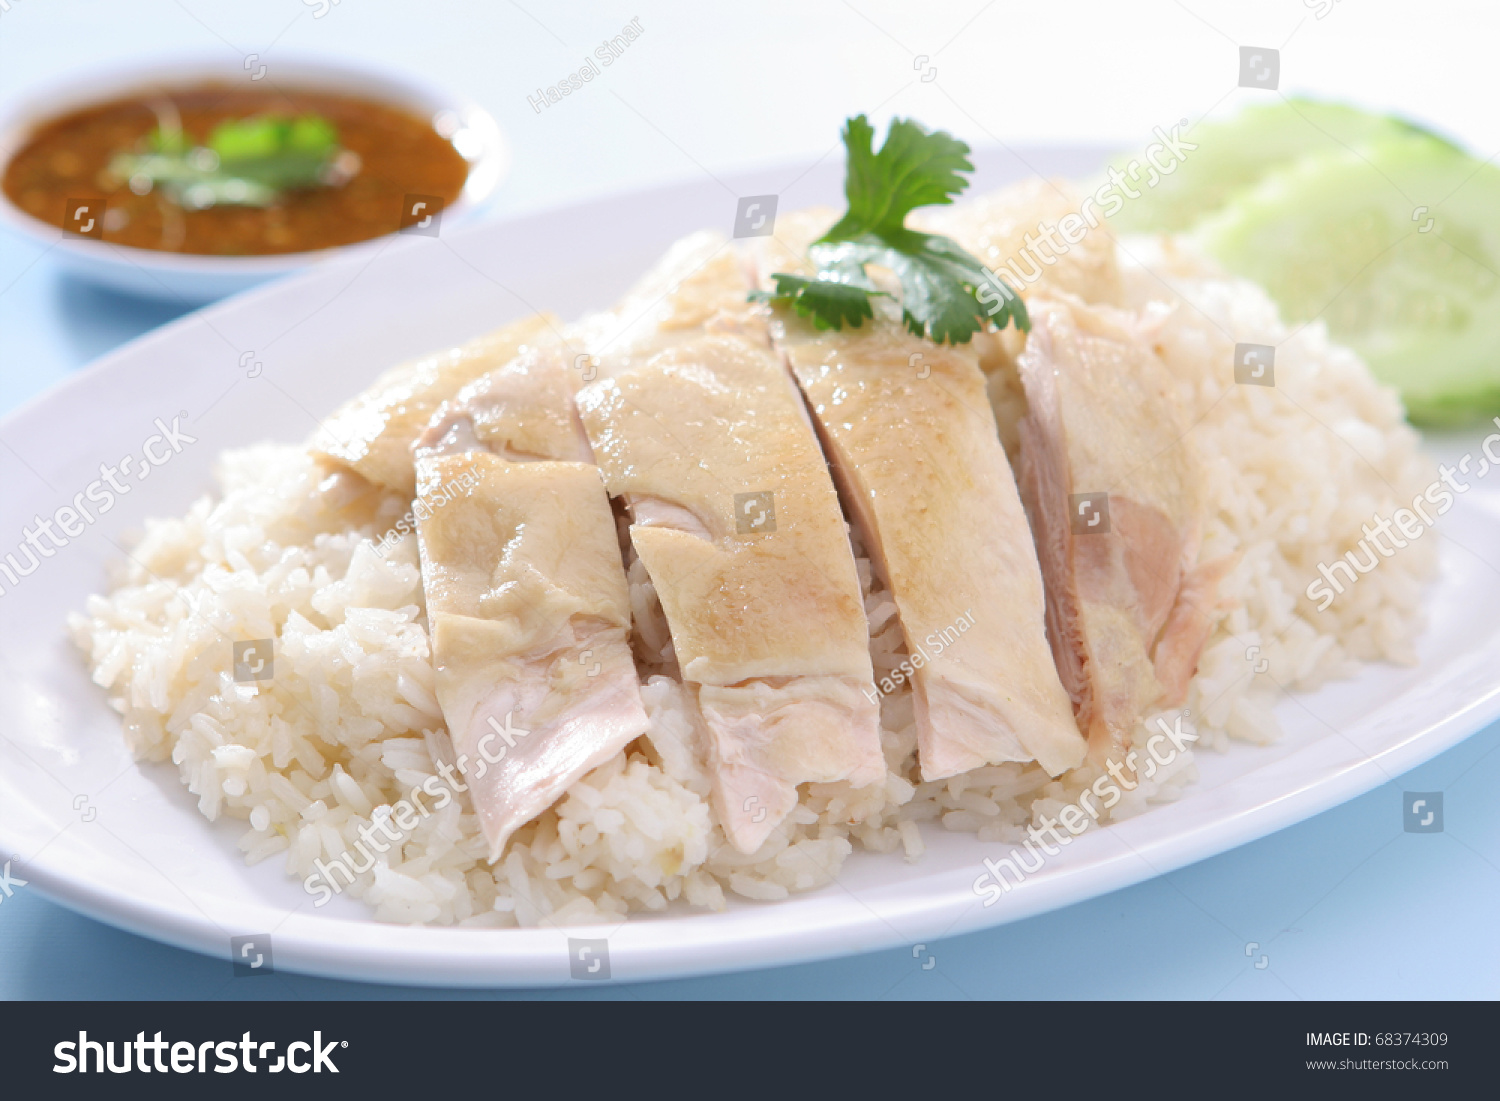Steamed Chicken Rice: (76, 213, 1467, 911)
